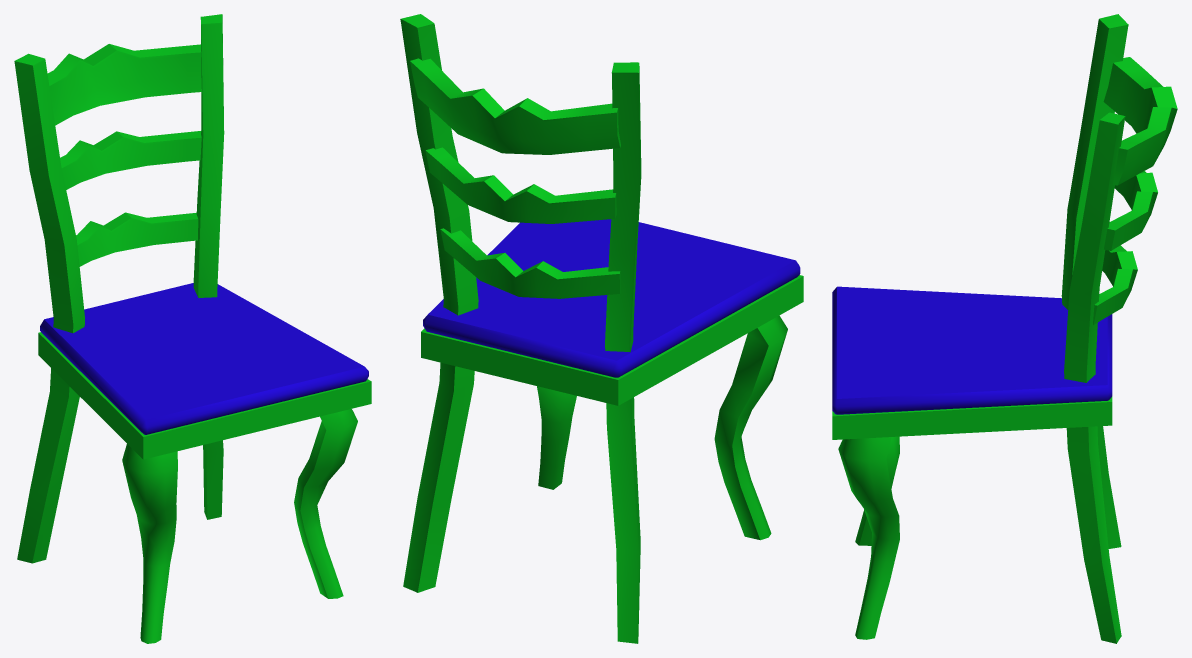
File: Chair_01.FBX
3 renders of one model, left to right at view 1: azimuth 30°, elevation 25°; view 2: azimuth 150°, elevation 25°; view 3: azimuth 270°, elevation 25°, orthographic. The views are drawn at different scales.
Parts seen in each view (by area): view 1: SM_Chair_E; view 2: SM_Chair_E; view 3: SM_Chair_E.
Part boxes in pixels (bbox=[...]): SM_Chair_E: bbox=[14, 14, 371, 643]; SM_Chair_E: bbox=[400, 14, 803, 643]; SM_Chair_E: bbox=[832, 14, 1177, 643].
Size of the model in its own units: 47.85 by 99.82 by 59.62.
